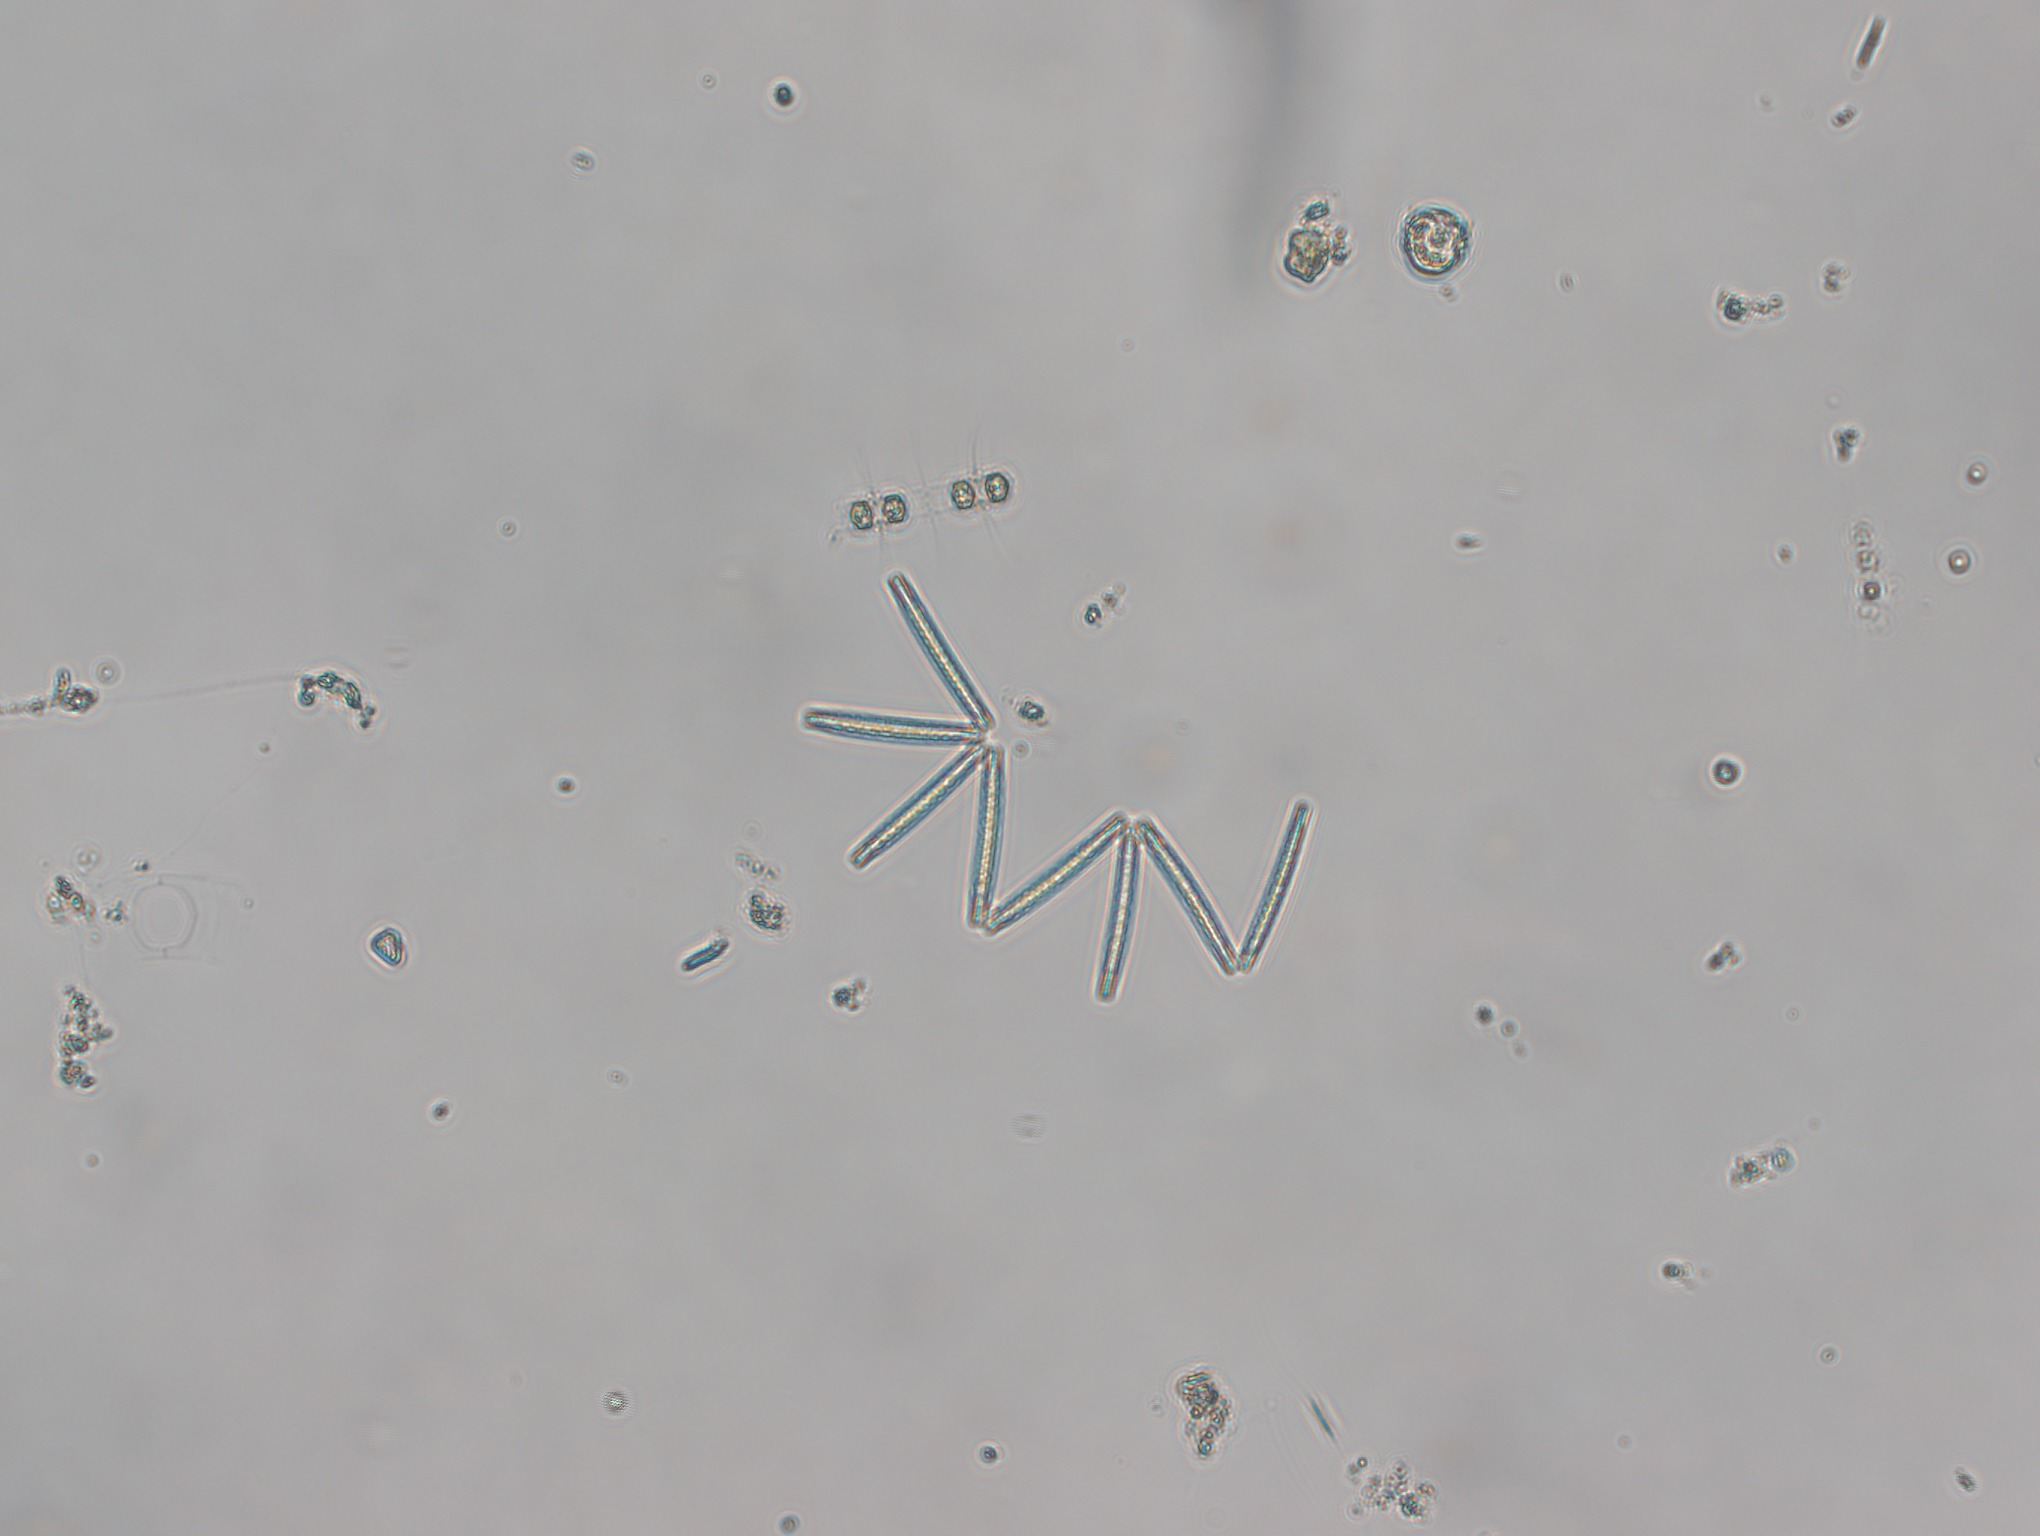chaetoceros: (768, 455, 1063, 555)
thalassionema nitzschioides: (792, 586, 1335, 1008)
